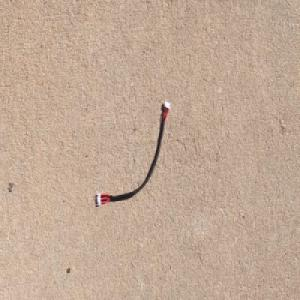Wire: (95, 98, 171, 208)
